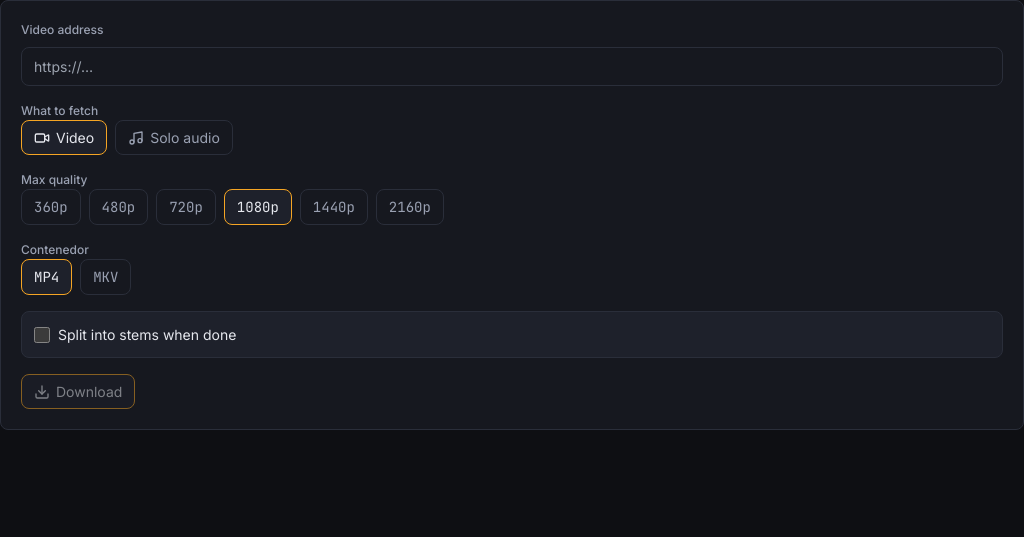
it: DownloadPage › consulta la URL sola, sin que haya que tocar nada
The width and height of the screenshot is (1024, 537).
Type "https://youtube.com/watch?v=x" into the field labelled "Video address" at (512, 66), box [21,47,1003,86]
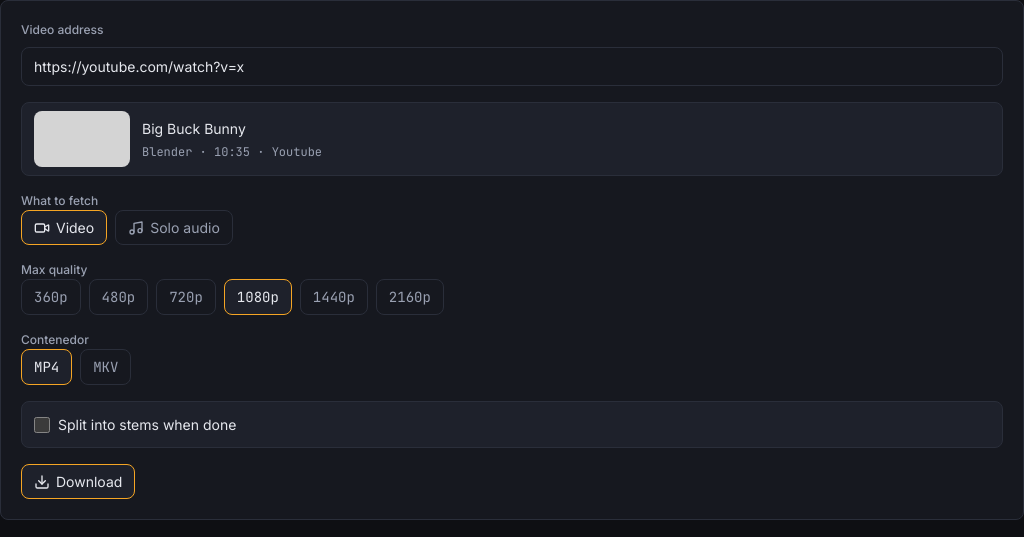
Check: the text "Big Buck Bunny" is shown, box [142,120,246,136]
Check: the text "Blender · 10:35 · Youtube" is shown, box [142,142,322,160]
